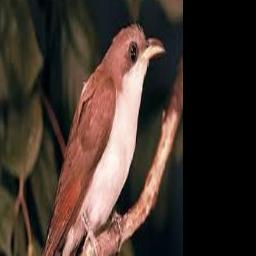Cuckoo: (32, 23, 166, 256)
